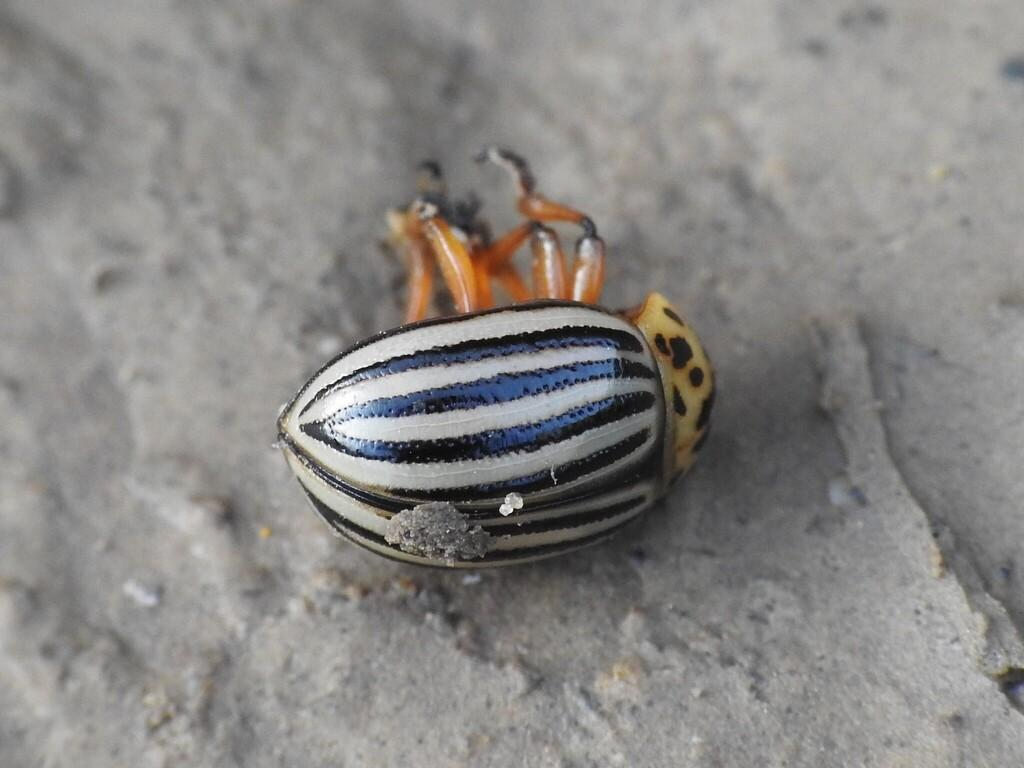potato_beetle: (131, 110, 823, 636)
